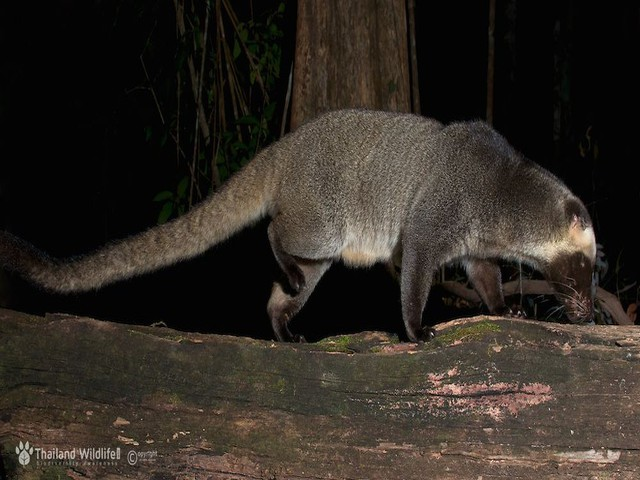civet: (5, 105, 600, 344)
